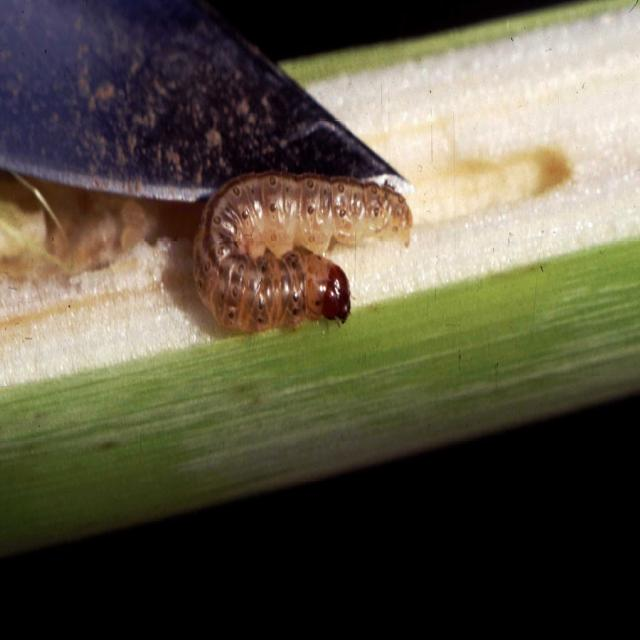cornborer-Larva-: (195, 161, 430, 345)
